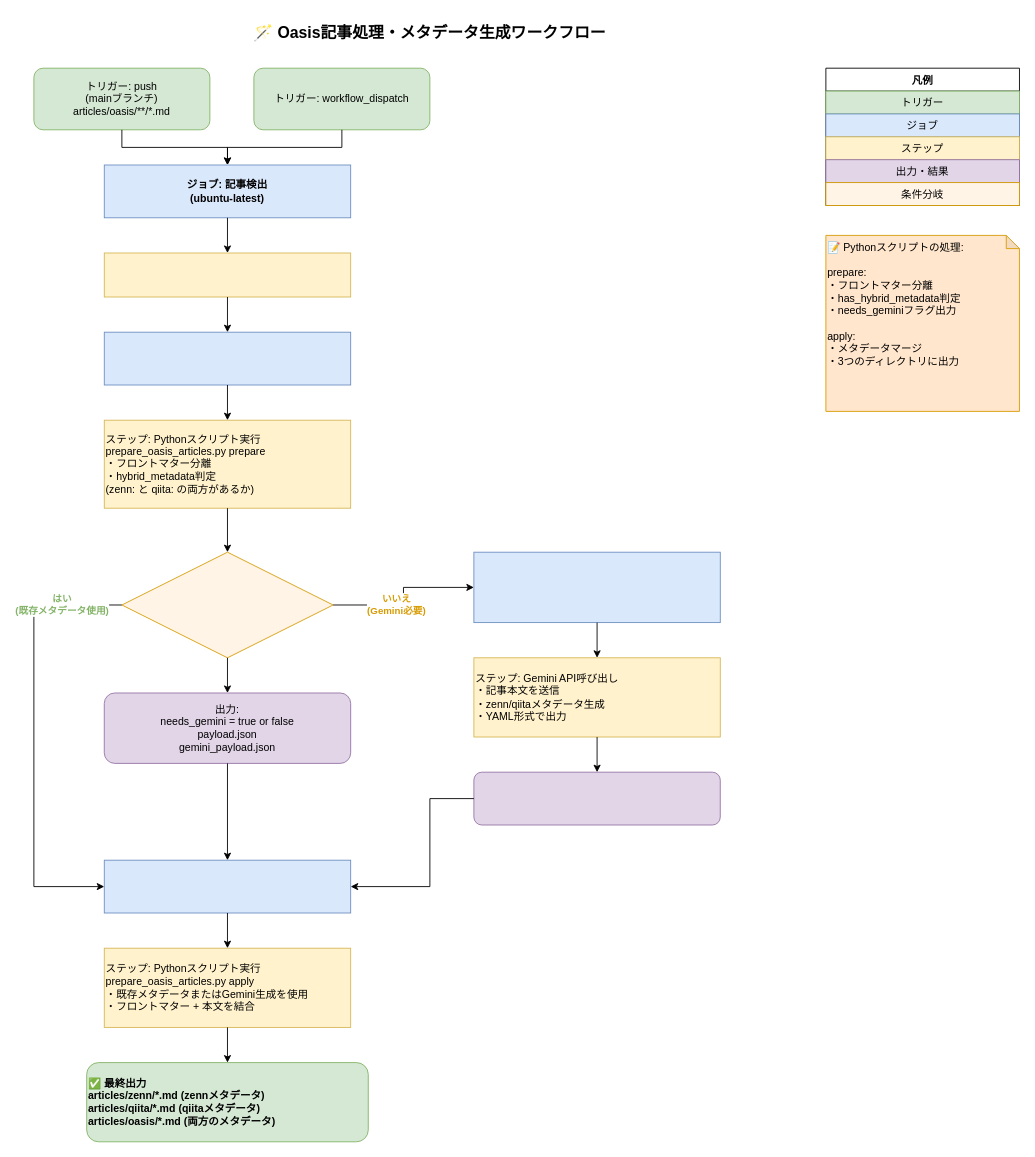
This 1035x1157 diagram has some shape labels left out. The shapes that lost their labels are listed below. From the top down, each one's centre as x and y in pixels, then its label:
At pixel 227 274: "ステップ: 新規追加された Oasis記事を収集".
At pixel 227 358: "ジョブ: 記事準備 (ubuntu-latest)".
At pixel 227 604: "フロントマターに zenn: と qiita: の 両方がある？ (has_hybrid_metadata)".
At pixel 596 587: "ジョブ: Geminiメタデータ生成 (ubuntu-latest) if: needs_gemini == true".
At pixel 596 798: "出力: gemini_metadata.yaml (生成されたメタデータ)".
At pixel 227 886: "ジョブ: メタデータ適用 (ubuntu-latest)".
